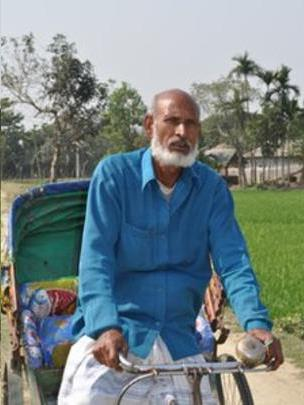Rickshaw: (2, 178, 264, 404)
